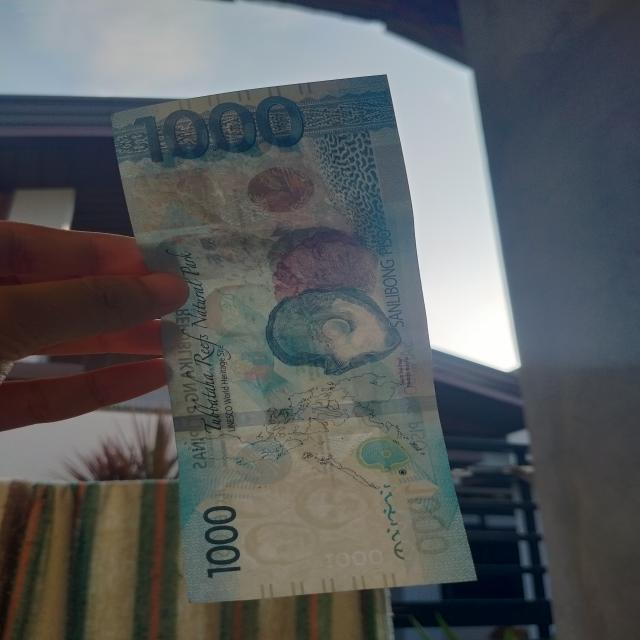security_thread: (170, 392, 439, 434)
see_through_mark: (369, 473, 417, 561)
value_watermark: (316, 539, 388, 574)
watermark: (214, 466, 396, 573)
